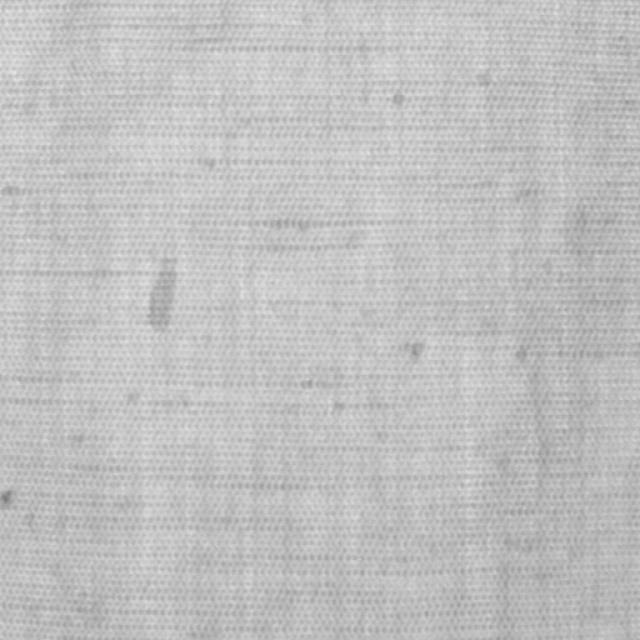oil spot: (147, 251, 179, 334)
